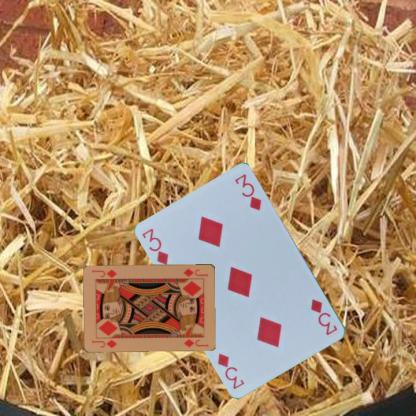3d: (308, 296, 339, 337), (140, 226, 170, 266)
Jd: (90, 335, 119, 349), (181, 266, 209, 278)
